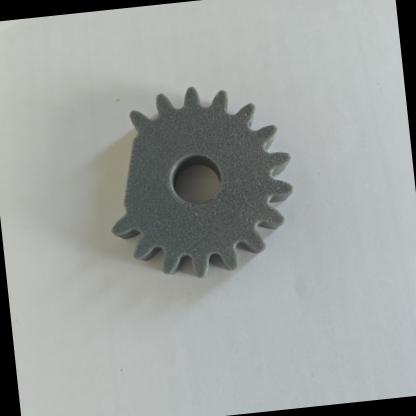defect: (74, 110, 168, 252)
gear: (58, 66, 322, 302)
